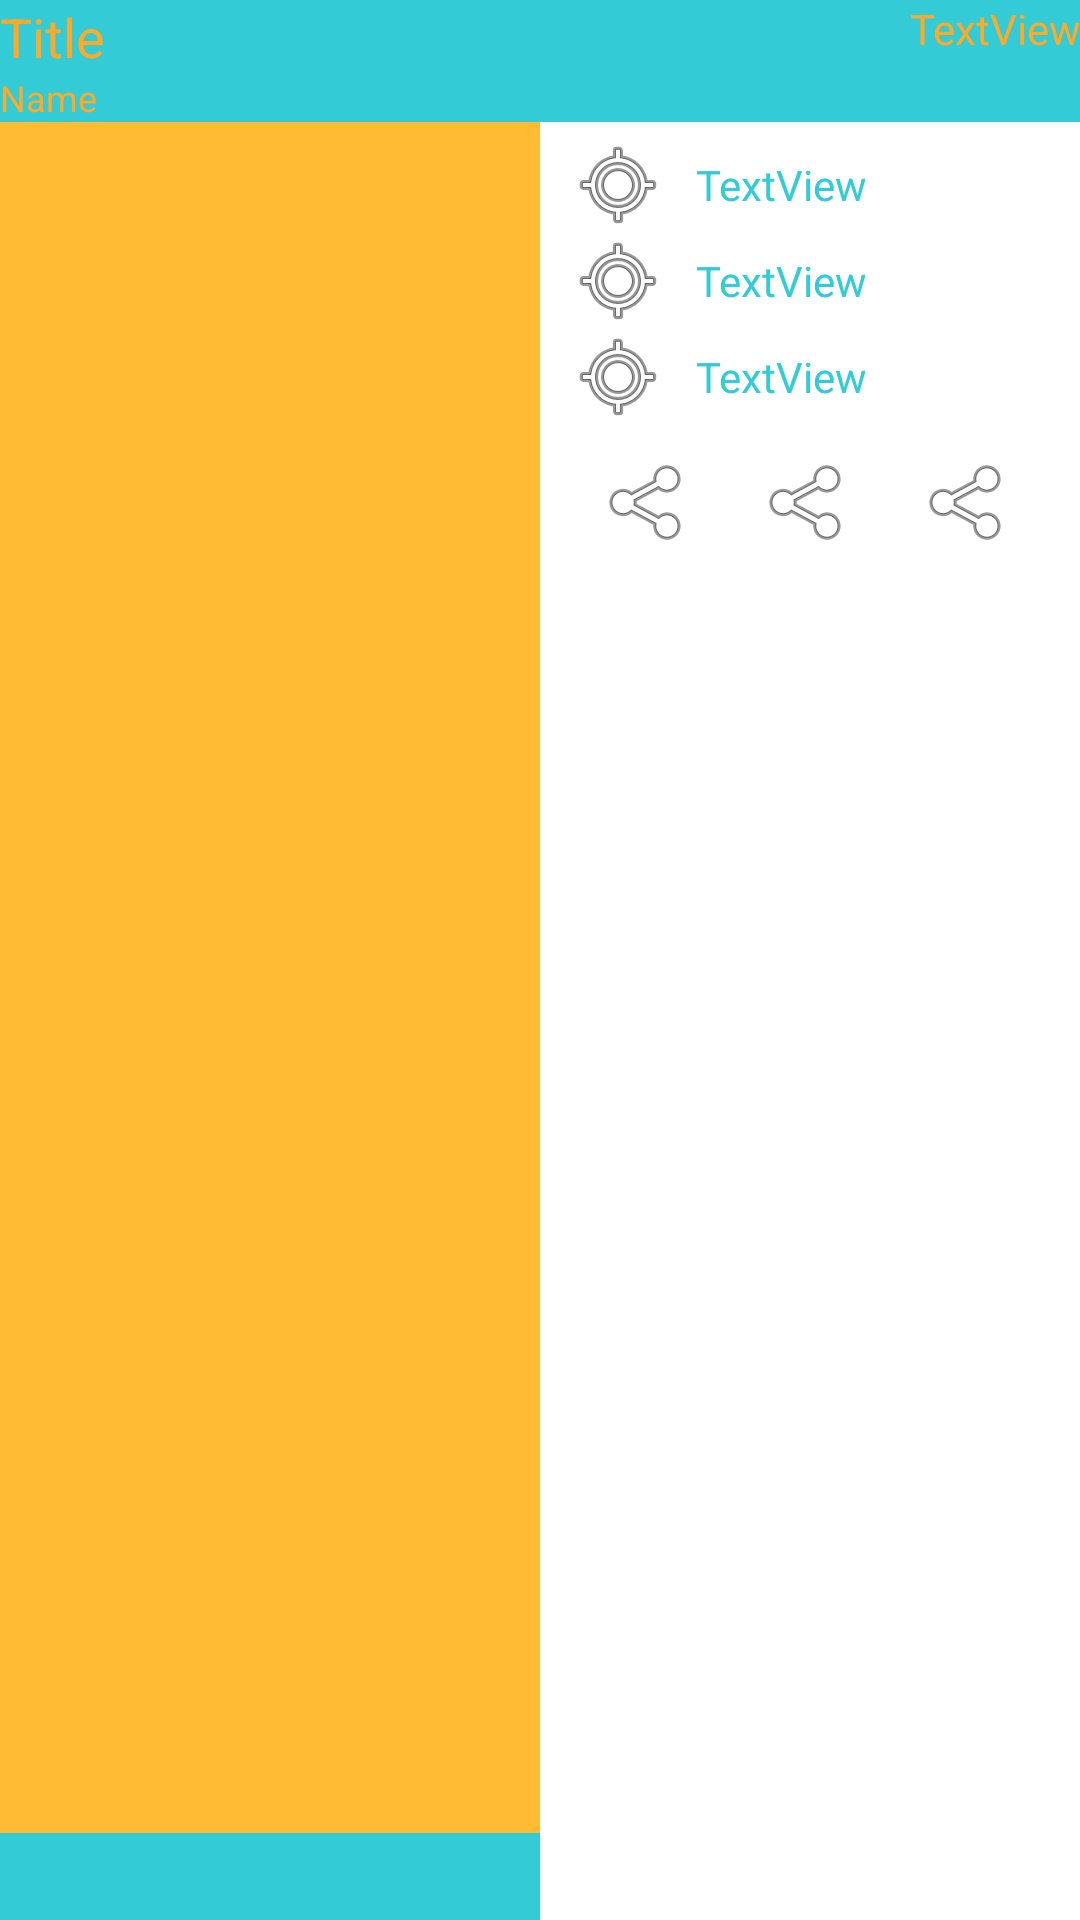

Icon click points for this 1080*1920 phone screenshot, format point (x, y):
share: point (645, 502), point (805, 502), point (965, 502)
